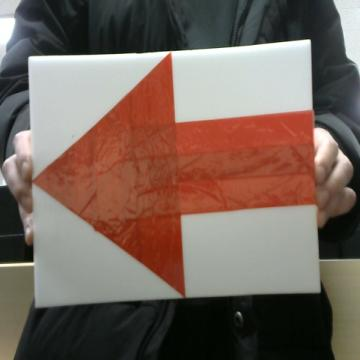red_left: (33, 53, 314, 296)
